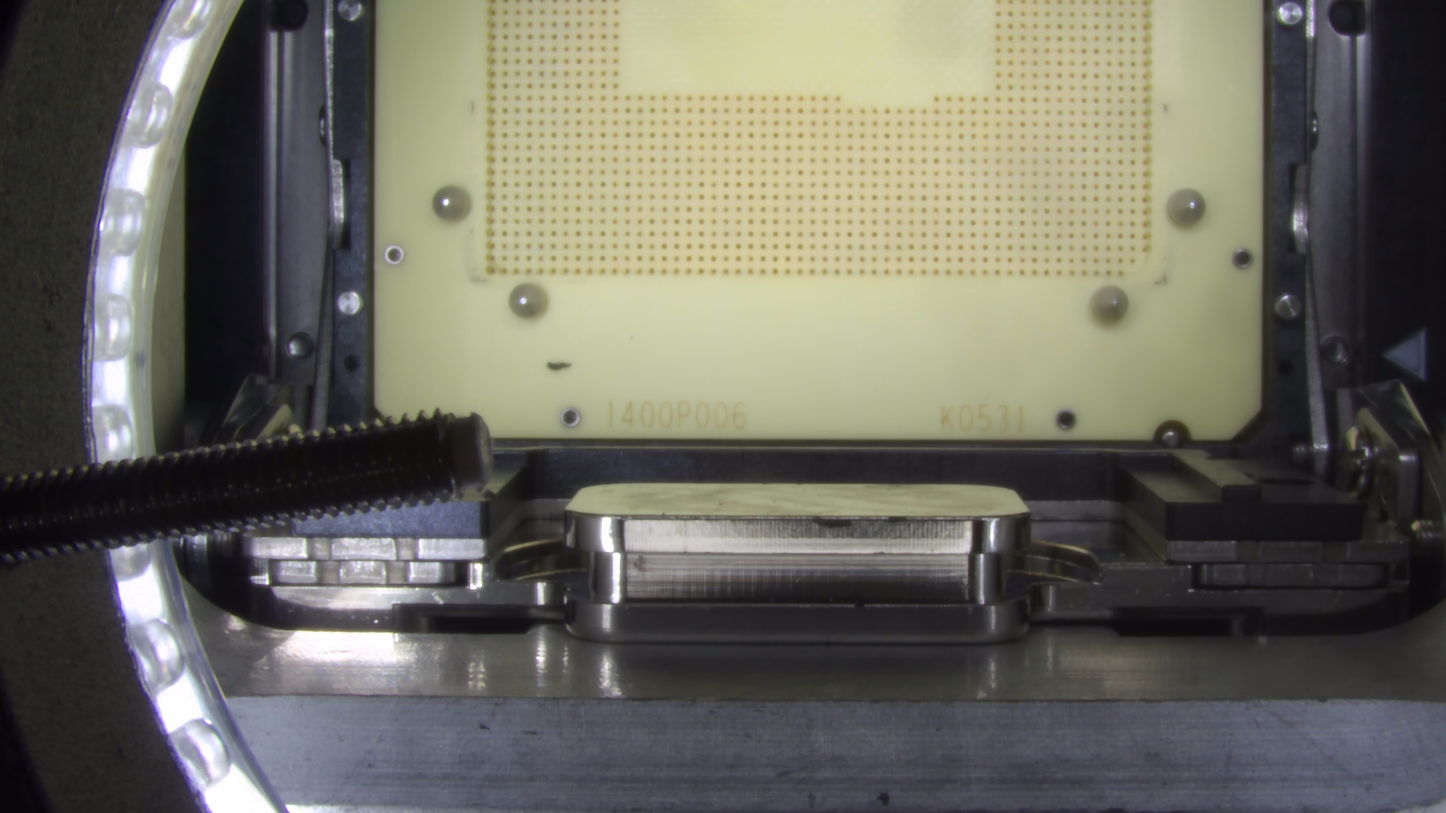missing_vctim: (553, 479, 1040, 609)
